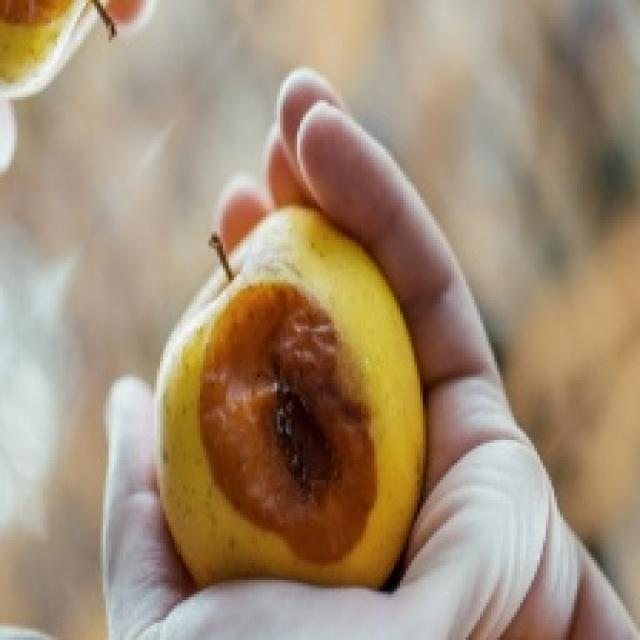rotten_apple: (157, 212, 421, 578)
